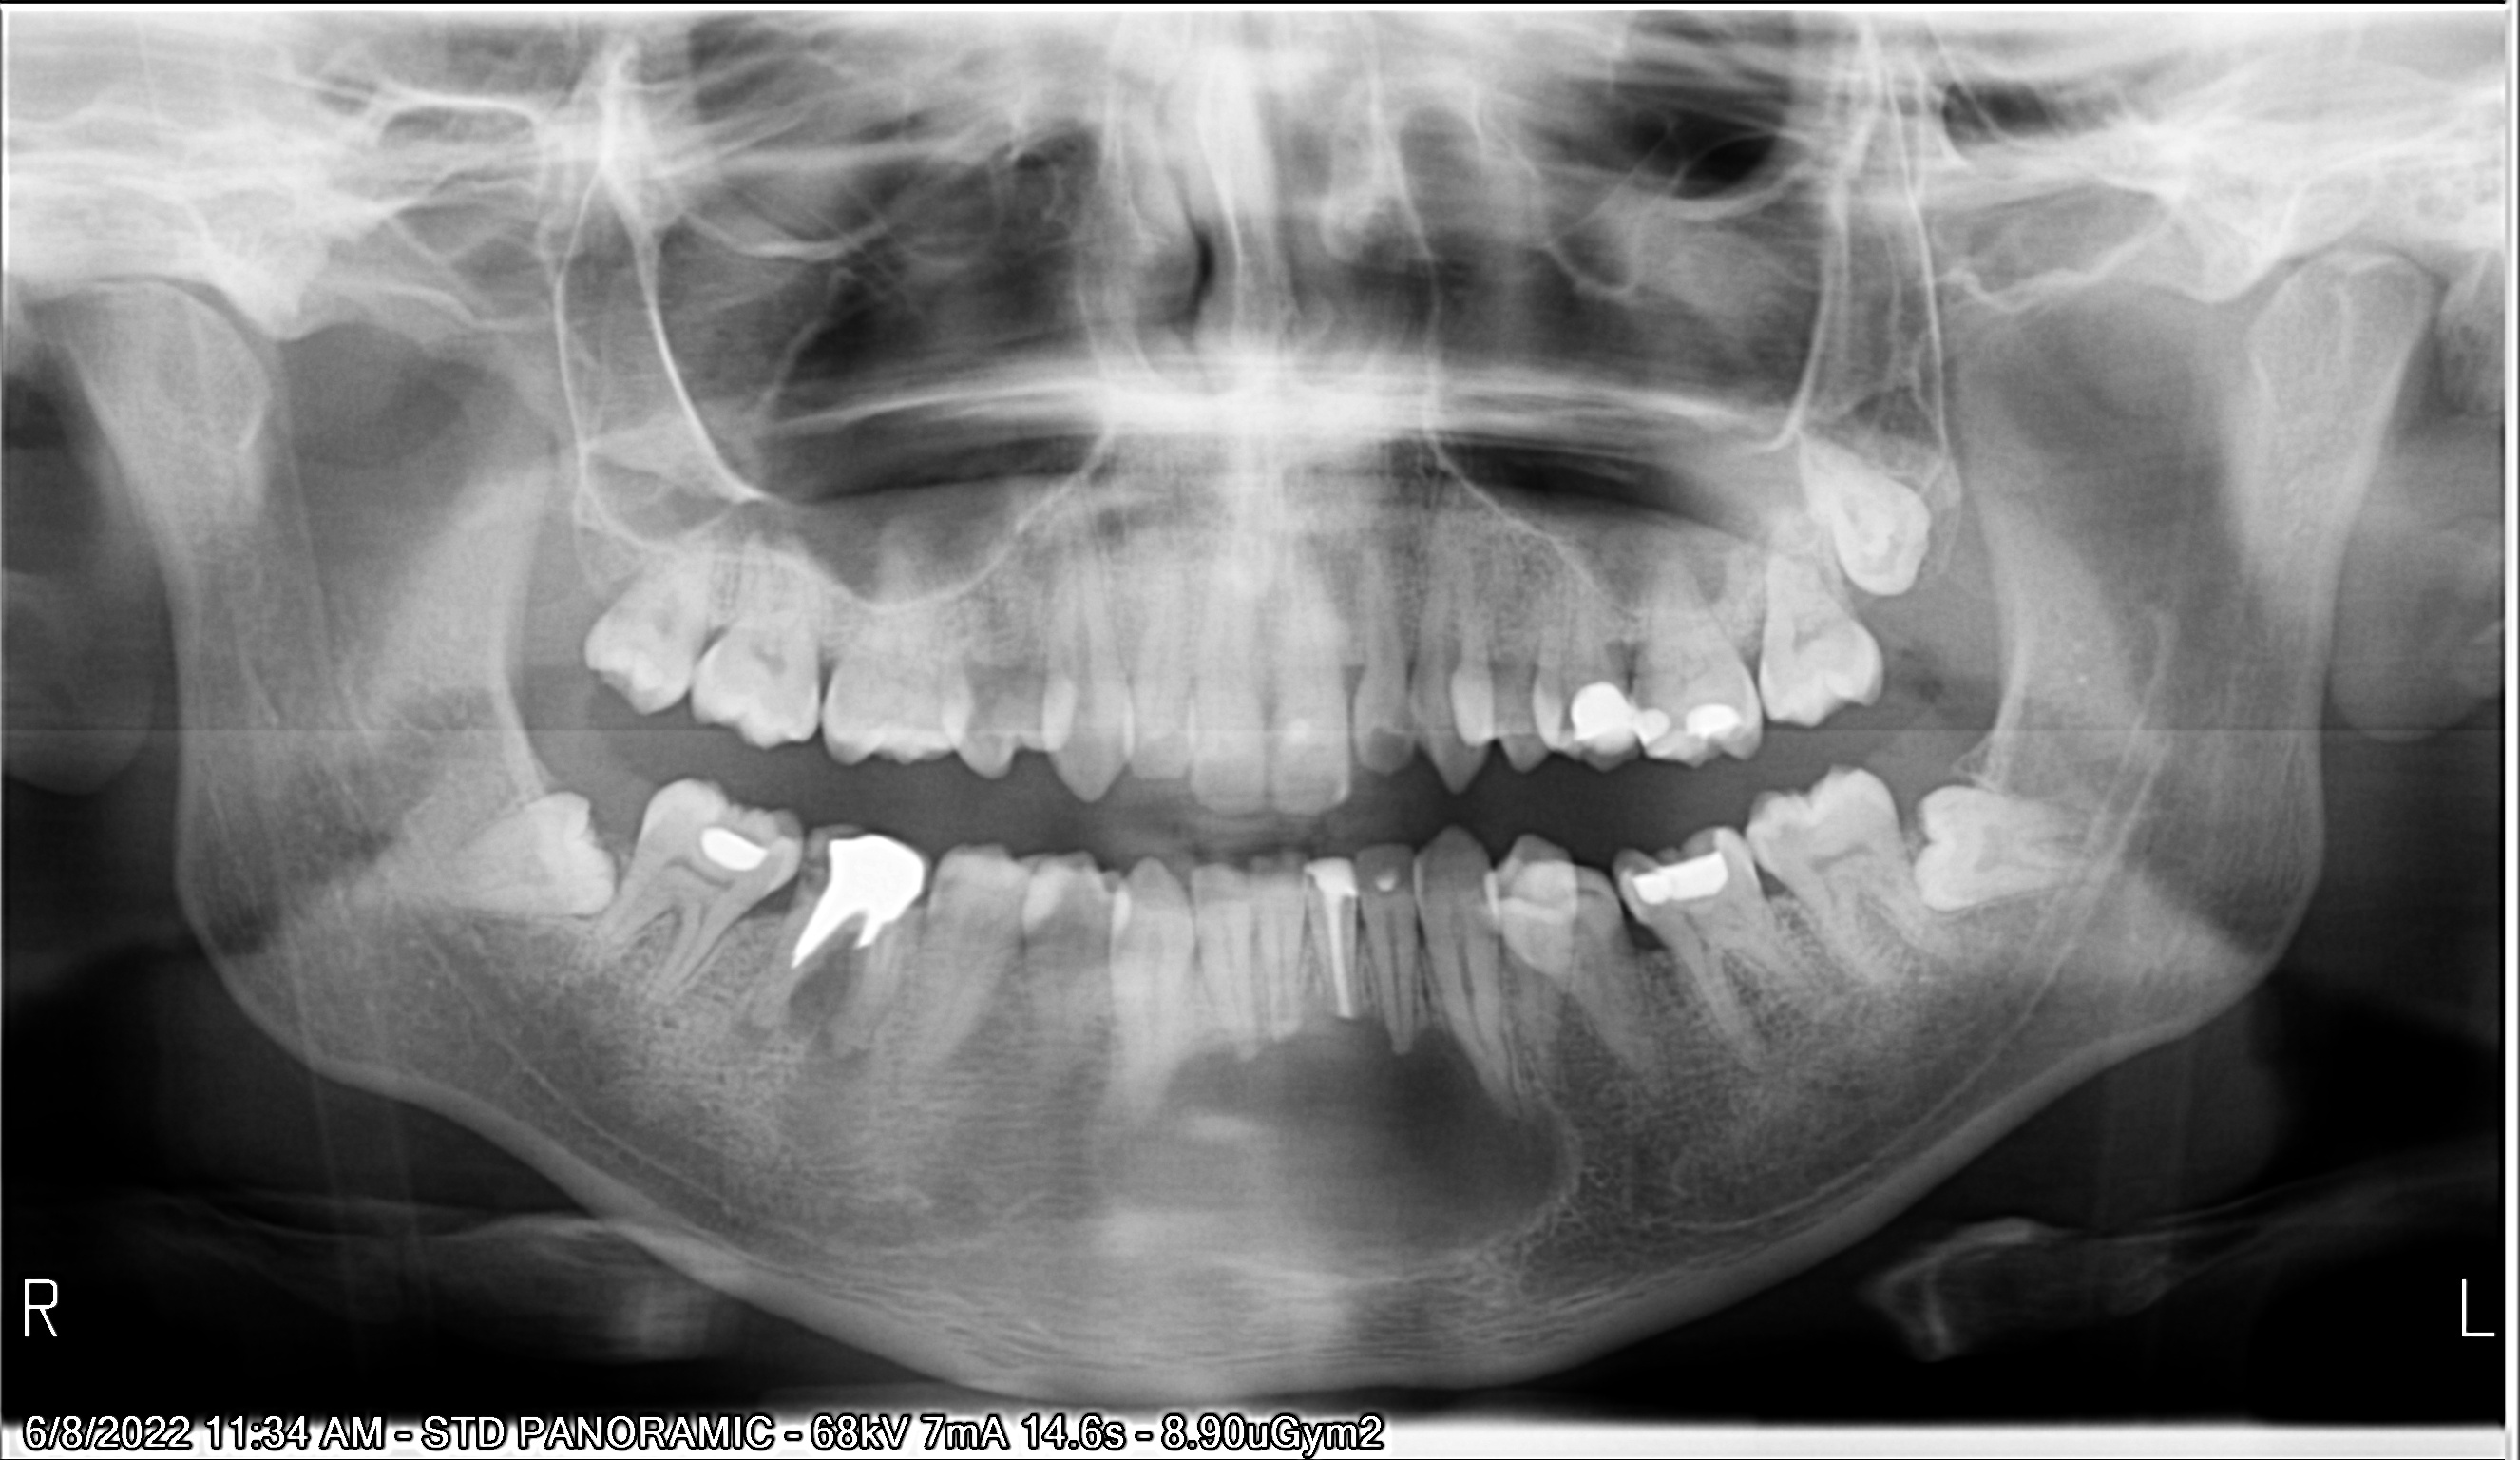API: (309, 448, 1103, 1460)
CAR: (327, 381, 1188, 1291)
END: (622, 388, 1992, 1429)
FUR: (321, 426, 1230, 1432)
IMT: (811, 306, 2520, 1229), (808, 68, 2520, 674), (59, 282, 709, 1241)
OBT: (743, 353, 2485, 1284), (792, 320, 2520, 1064), (776, 306, 2466, 1058), (658, 407, 2068, 1304), (617, 403, 1976, 1311), (736, 290, 2371, 1045), (281, 360, 1065, 1251)
